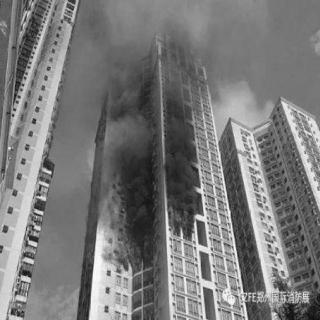Fire: (163, 200, 197, 240)
